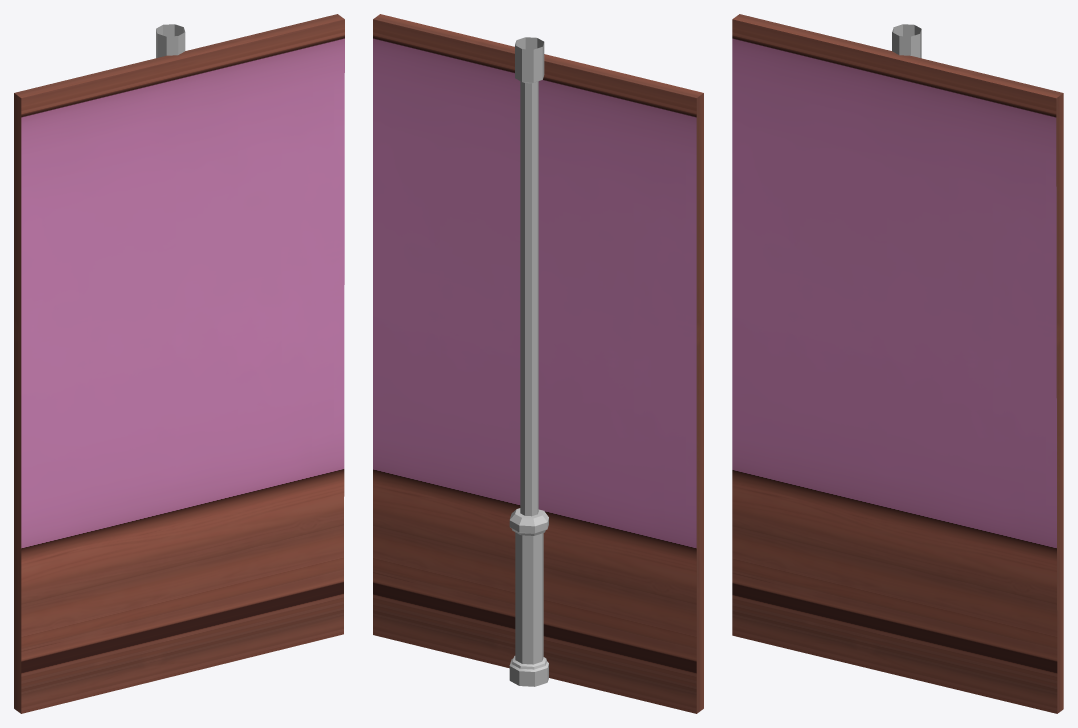
The model's file is Wall_Pillar.fbx.
The picture shows the model from 3 angles, left to right: view 1: azimuth 30°, elevation 25°; view 2: azimuth 150°, elevation 25°; view 3: azimuth 330°, elevation 25°; orthographic projection.
Visible parts, largest first — view 1: pCube111; view 2: pCube111; view 3: pCube111.
Part boxes in pixels (x1,y1,x2,y2): pCube111: (14, 14, 344, 713); pCube111: (373, 14, 703, 713); pCube111: (732, 14, 1063, 713).
Bounding box in the file's own units: 1.1 × 0.1347 × 2.06.
